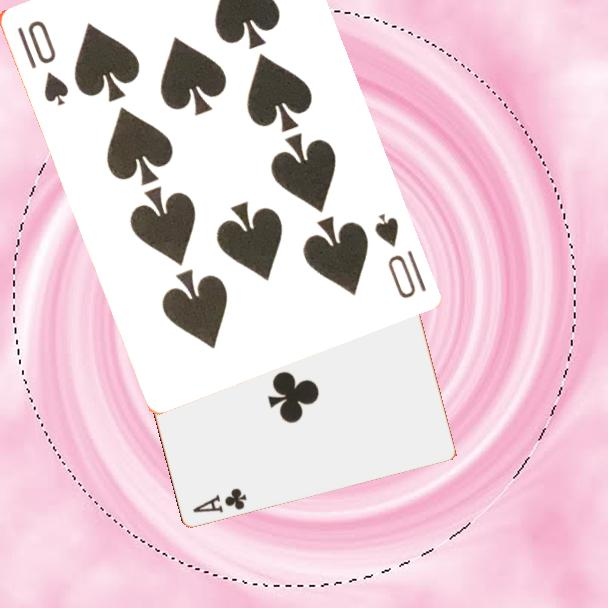c01: (189, 484, 250, 515)
s10: (370, 209, 429, 301), (13, 16, 71, 109)
